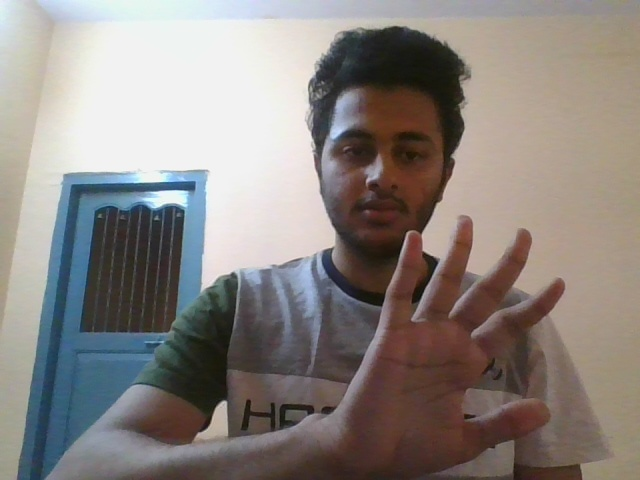Goodbye: (328, 213, 568, 472)
